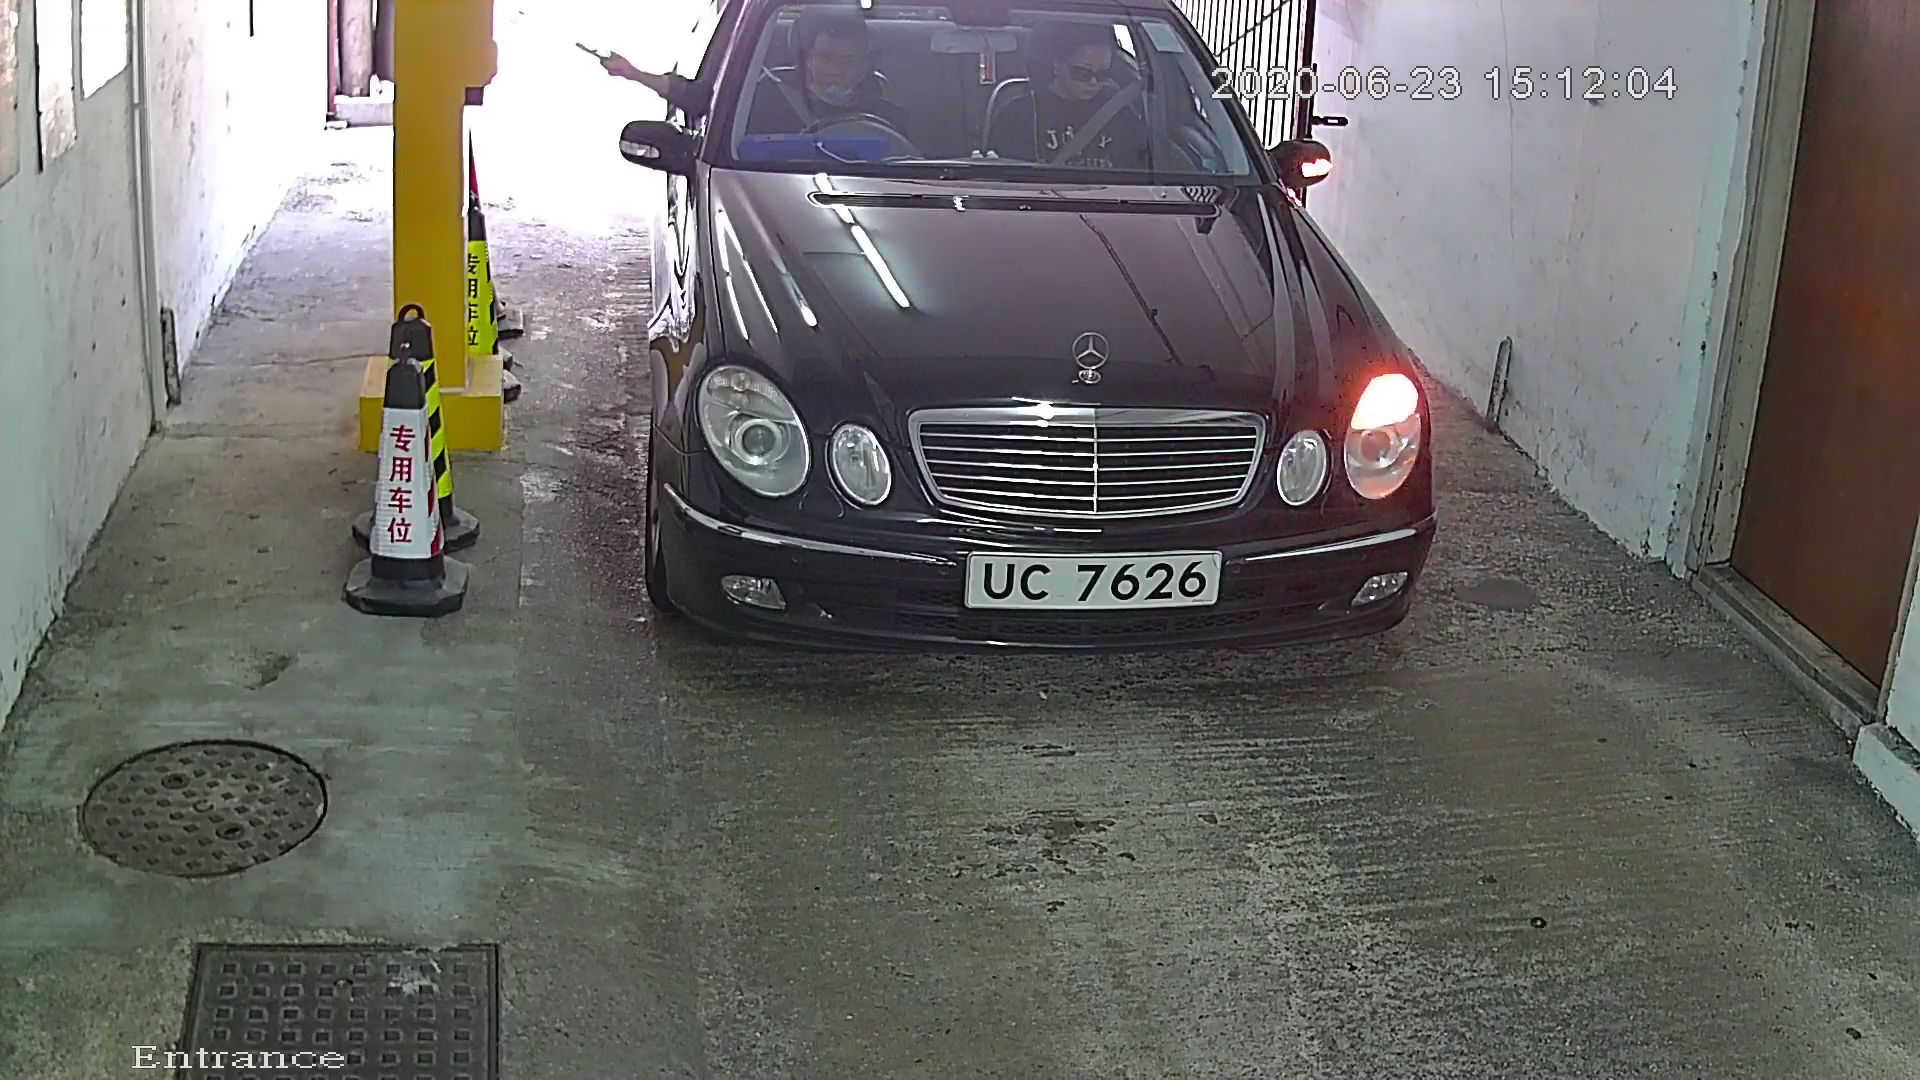privatecar: (626, 3, 1468, 705)
